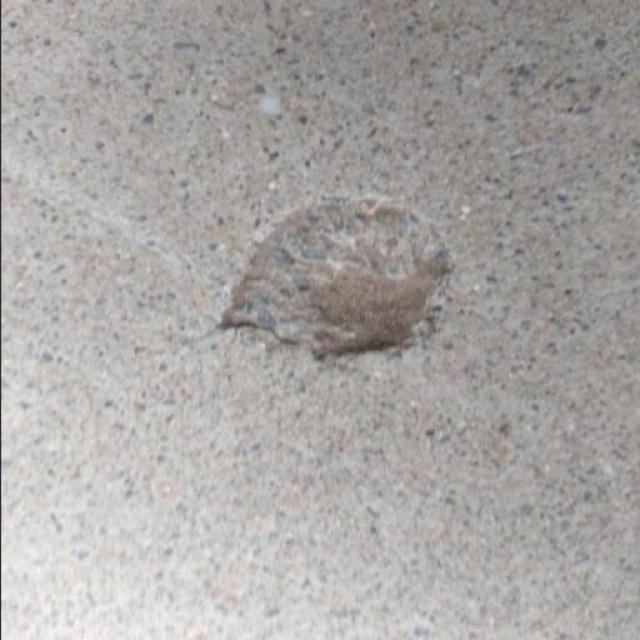D10: (218, 198, 450, 361)
